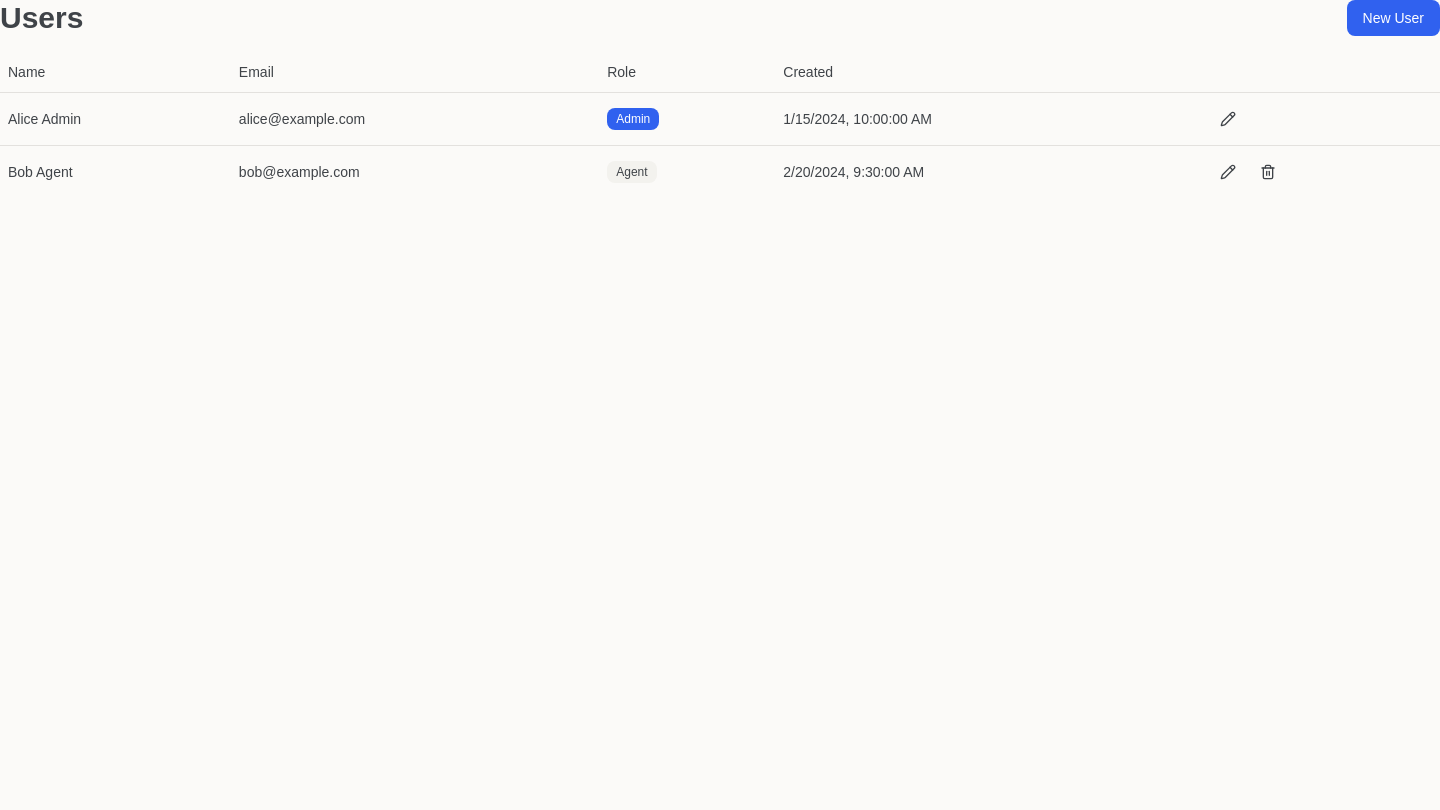
UsersPage › Edit User modal › shows a validation error when name is too short
Expected: the text "Alice Admin" is shown, left=0, top=92, right=231, bottom=145
Click the button named "edit alice admin". click: (1228, 118)
box: left=1210, top=100, right=1246, bottom=136
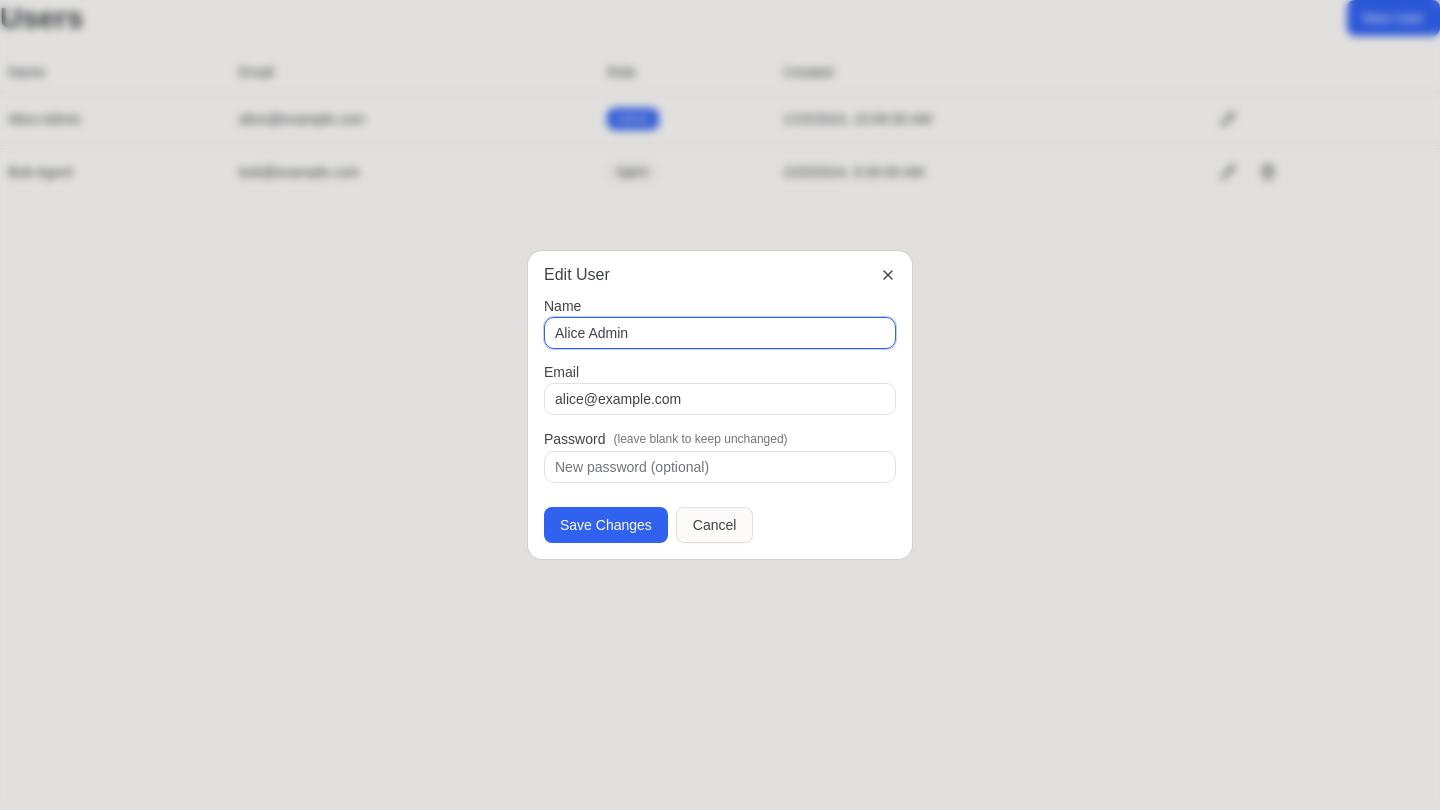
Replace the text in the field with placeholder "Full name" with "Al". click: (720, 333)
box: left=544, top=317, right=896, bottom=349
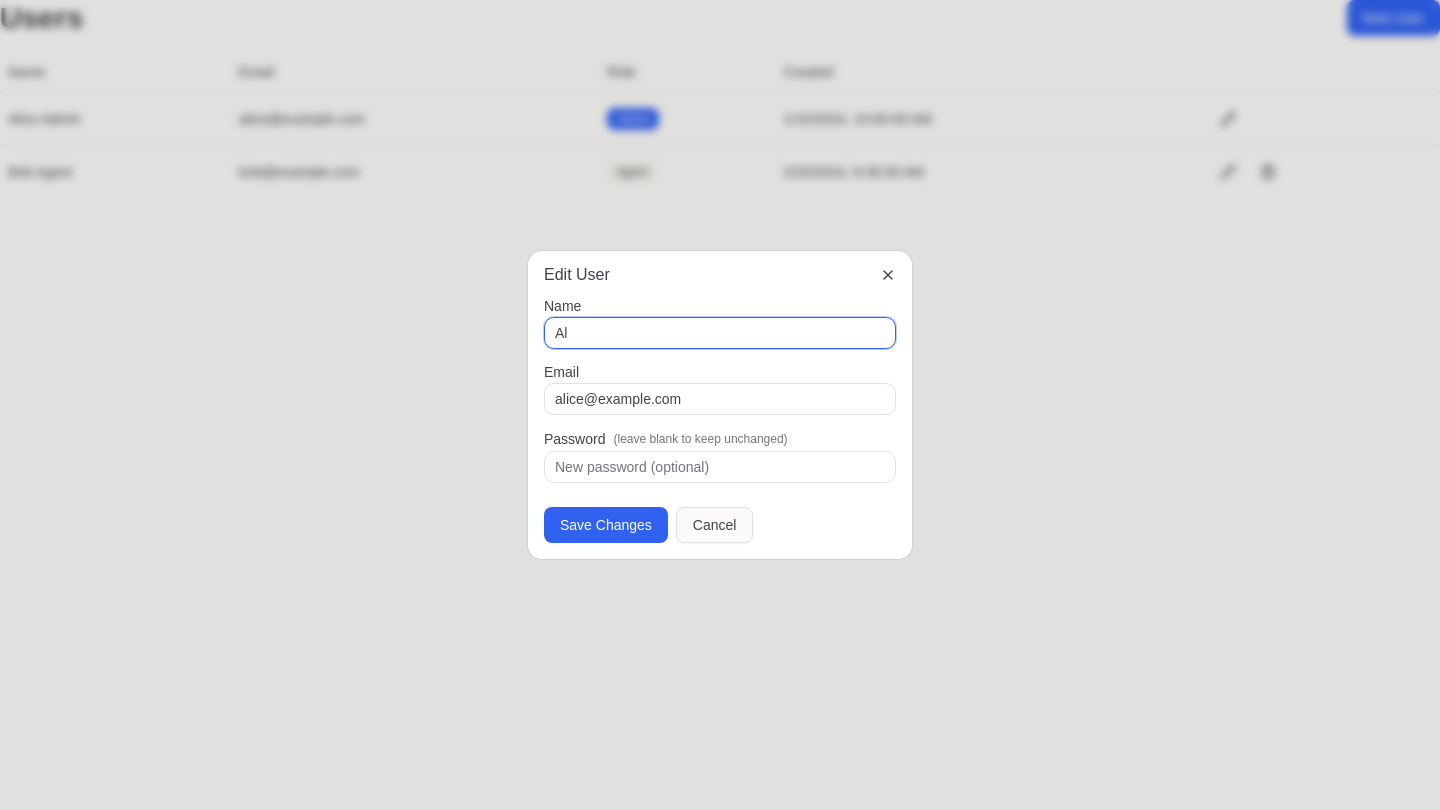
Click the button "Save Changes". click: (606, 525)
box: left=544, top=507, right=668, bottom=543
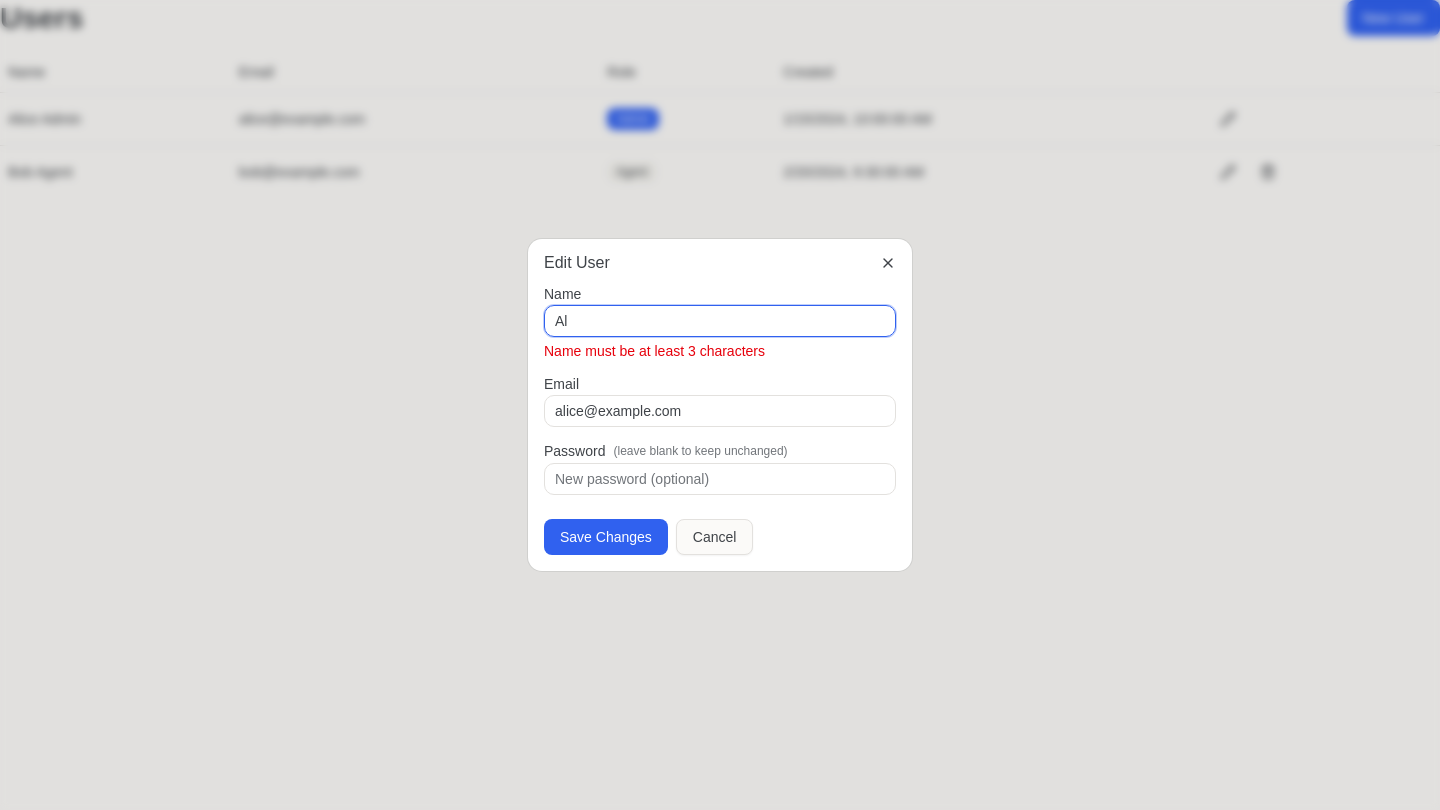
Now the text "Name must be at least 3 characters" is shown, box left=544, top=343, right=765, bottom=359
